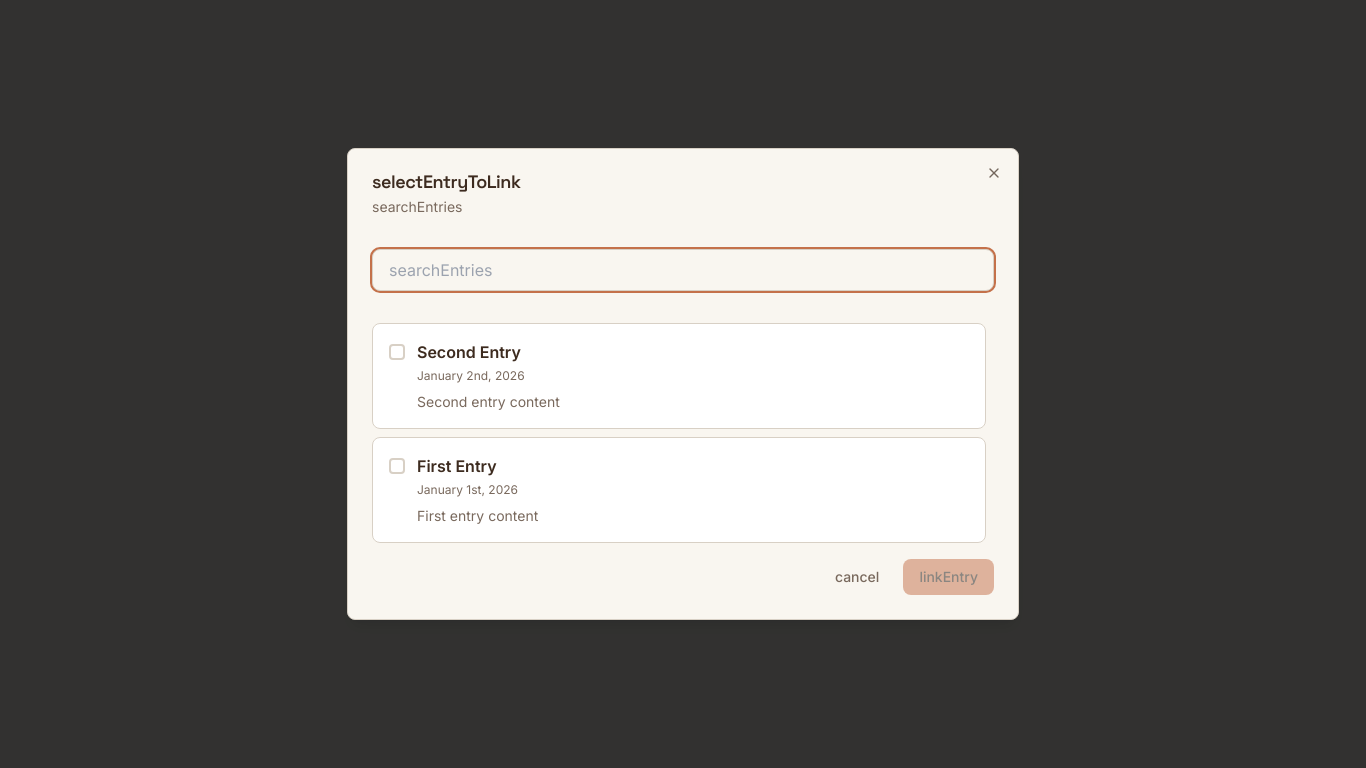
Test: EntryLinkDialog › shows no entries message when search yields no results
The image size is (1366, 768).
Type "xxxxxxx" into the field at (683, 270), box [372,249,994,291]
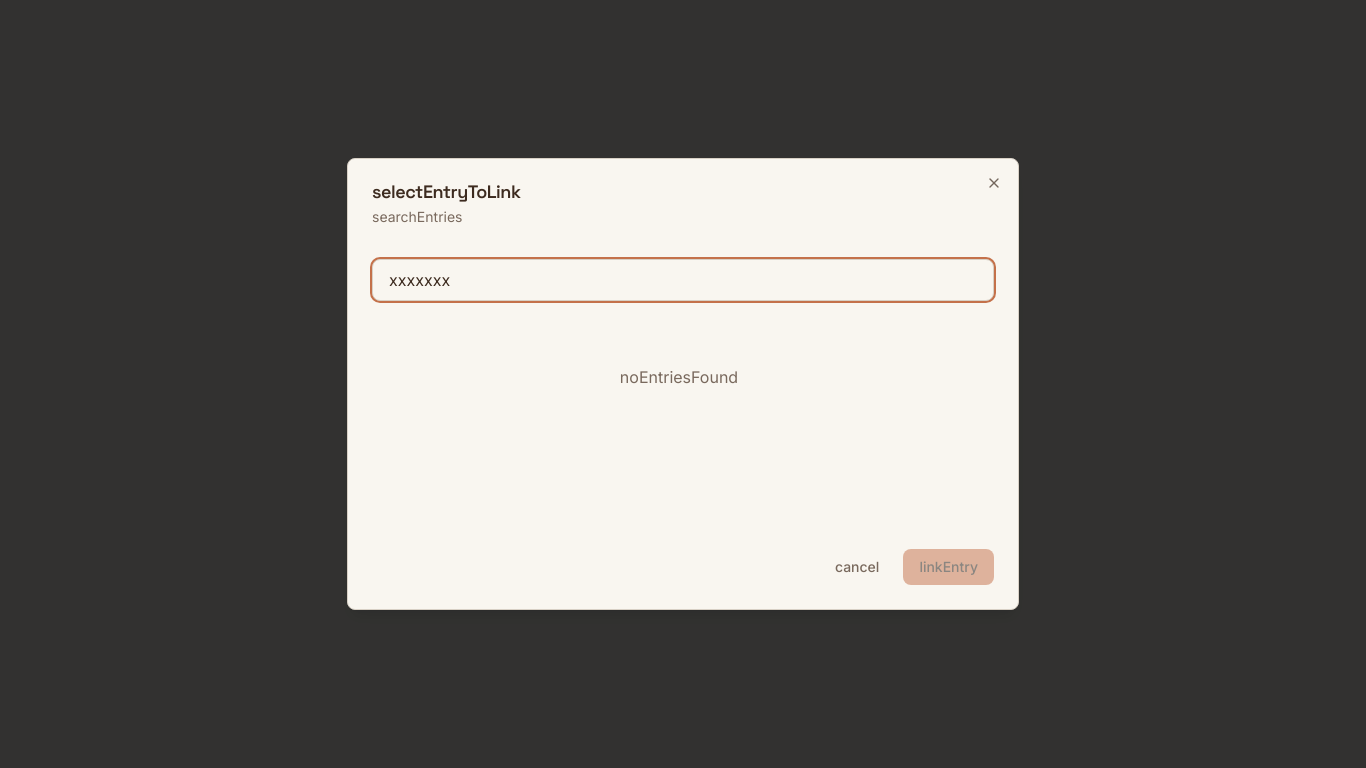
Check: the text "noEntriesFound" is shown, box [620,367,738,387]
